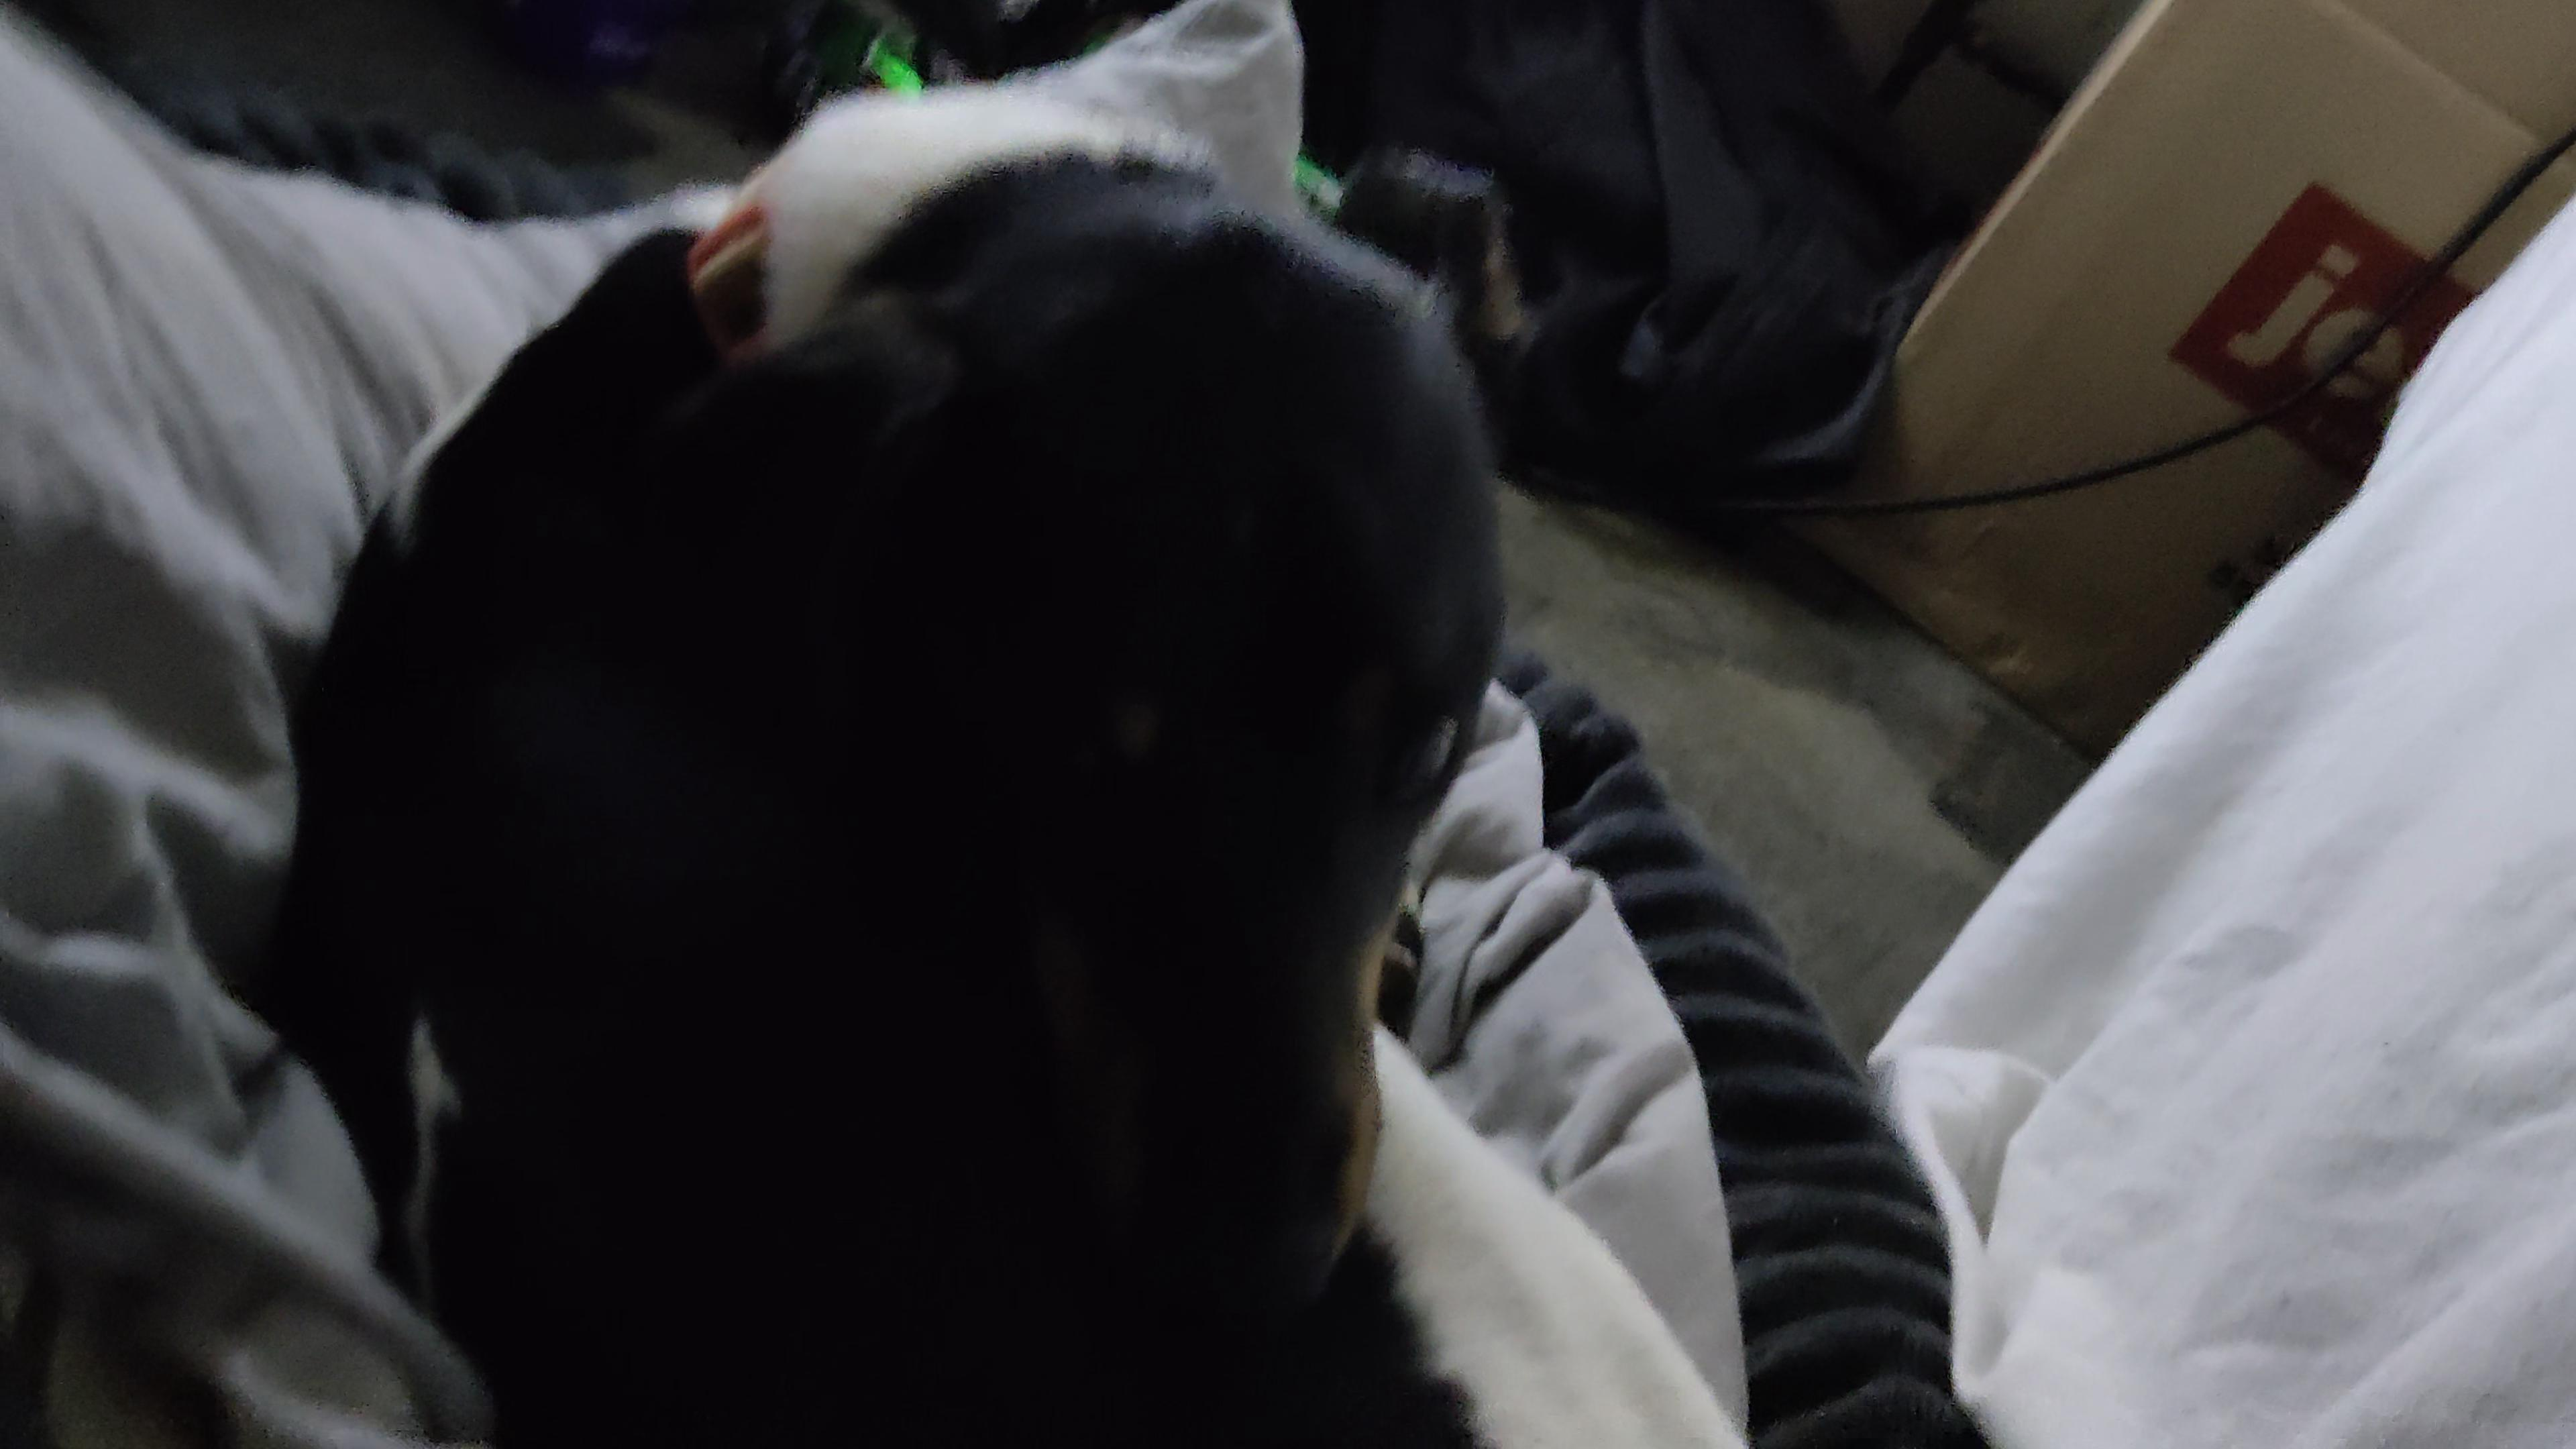Dog: (280, 62, 1767, 1449)
